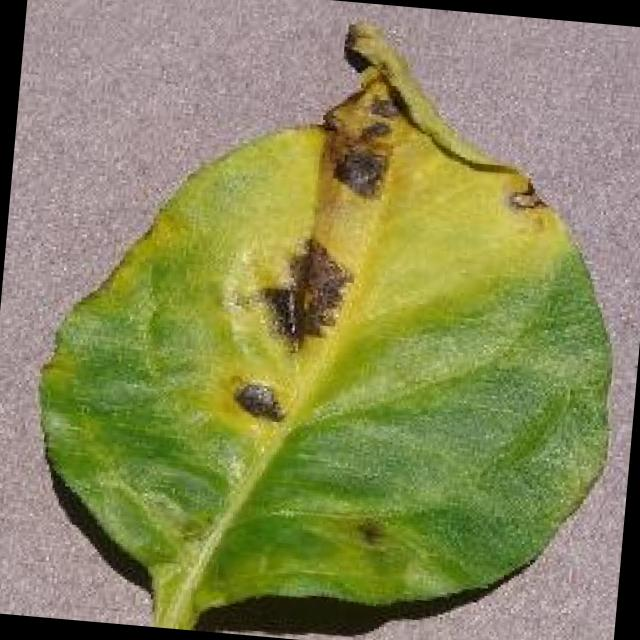Chilli_Bacterial_Spot: (13, 0, 640, 640), (212, 58, 410, 442), (250, 232, 356, 358), (311, 64, 407, 203), (250, 280, 308, 352), (326, 140, 388, 200), (226, 374, 290, 428), (334, 16, 384, 77), (502, 176, 548, 217), (348, 511, 388, 552)
